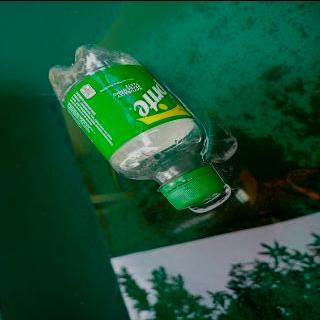bottle: (46, 44, 225, 210)
